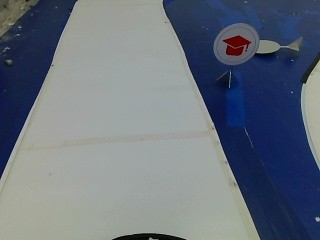school: (210, 21, 260, 67)
